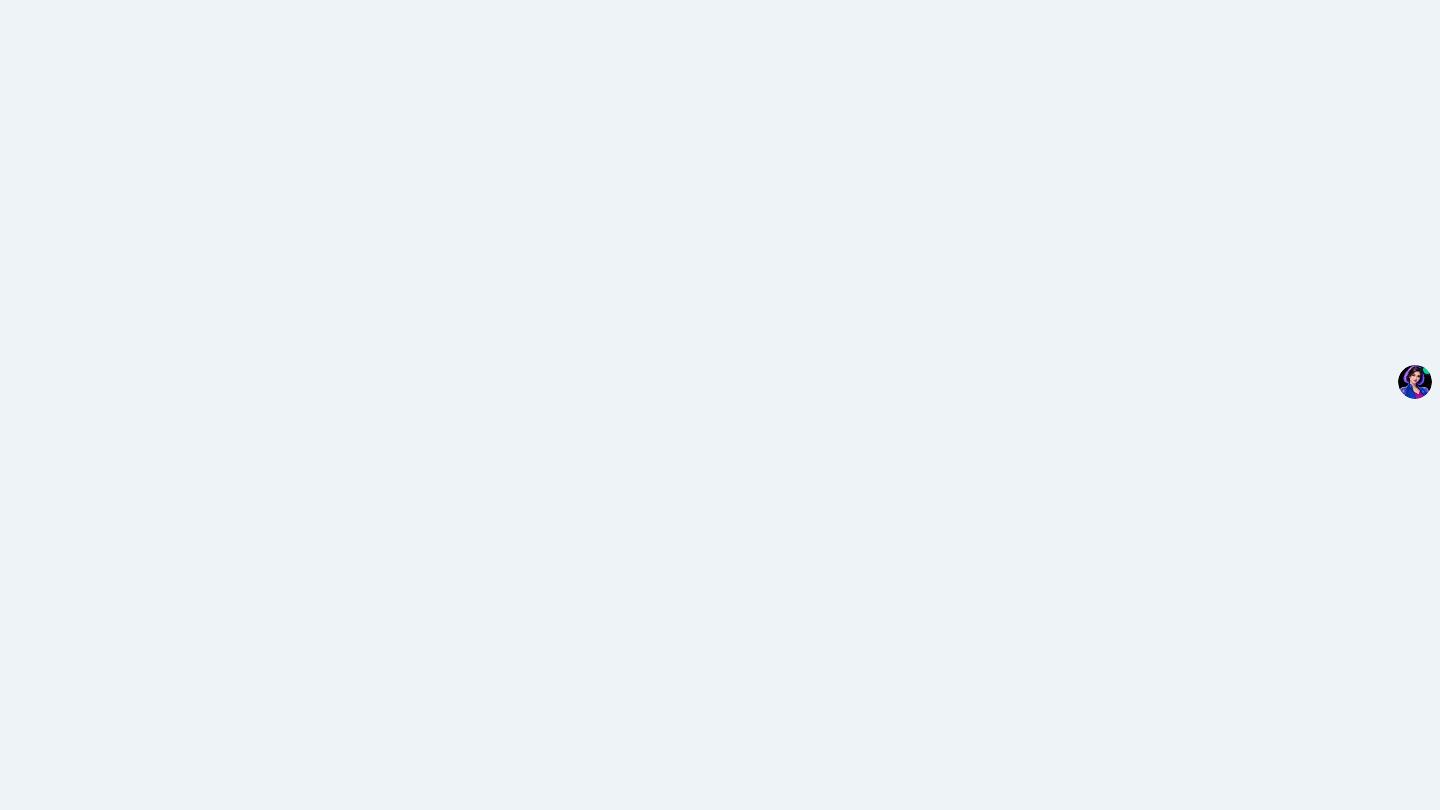
Test: IallkaFloatingIcon — ícone e painel › 8b. Cadastro de Produtos e Tarefas recebem sugestões próprias da Aura
Later steps or results of the test are not shown.
Click the button named "Falar com a Aura" at coordinates (1415, 382), box [1398,365,1432,399]
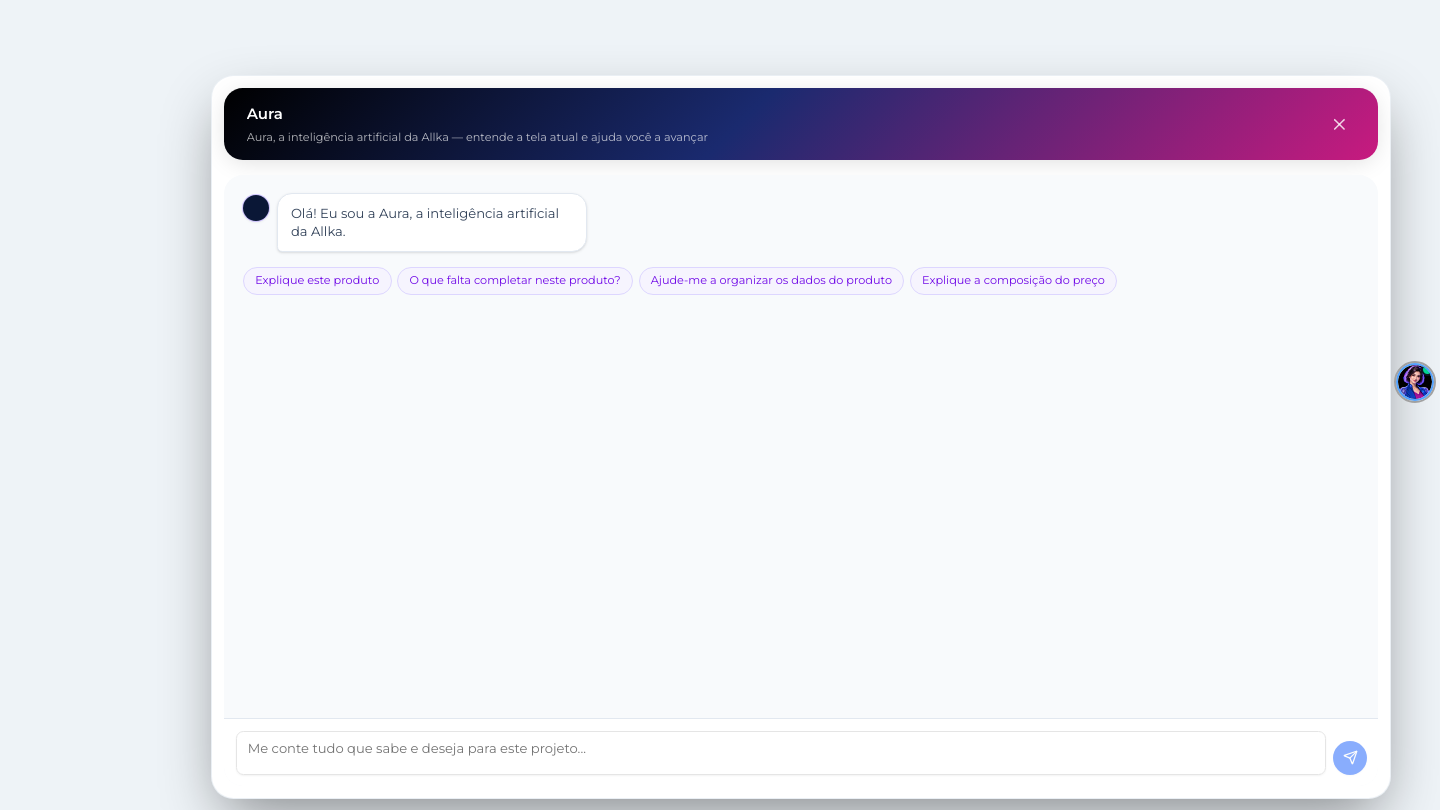
Check: the button "O que falta completar neste produto?" is shown, box [397,266,633,295]
